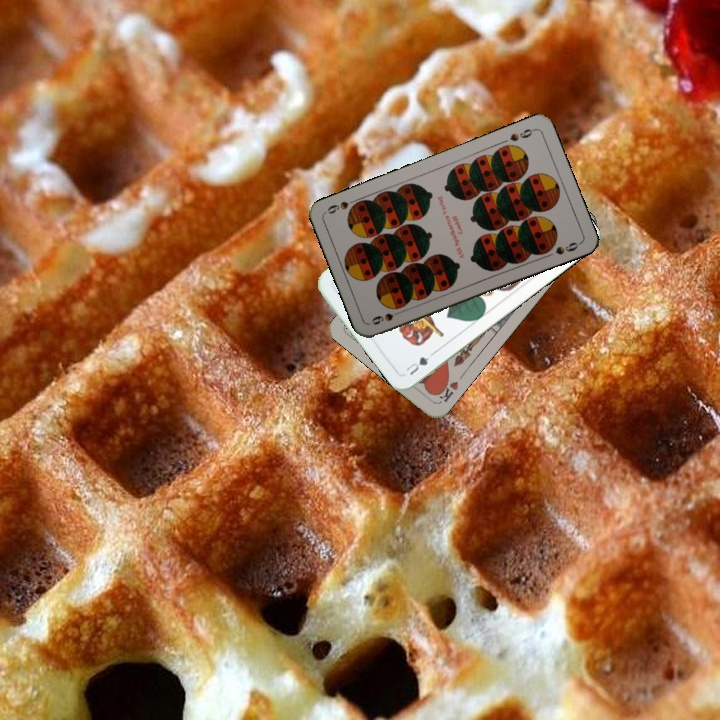GU: (402, 349, 436, 378)
HK: (432, 375, 461, 405)
S9: (367, 306, 407, 327), (506, 125, 538, 144)
